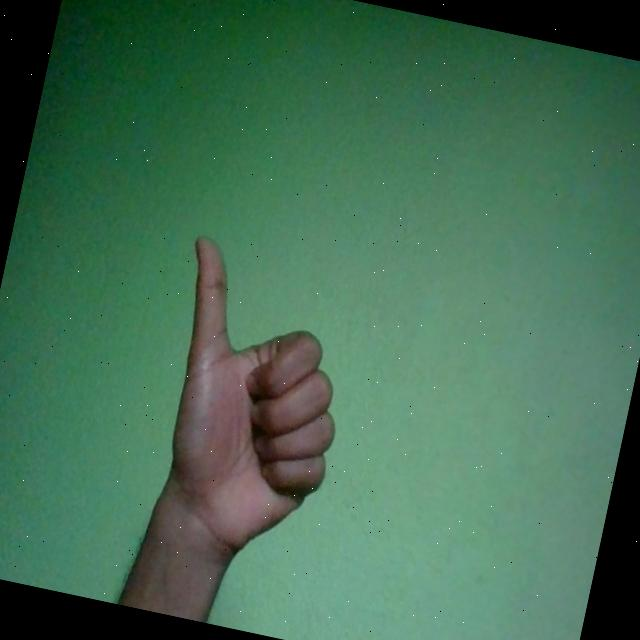Good Job: (132, 235, 370, 573)
